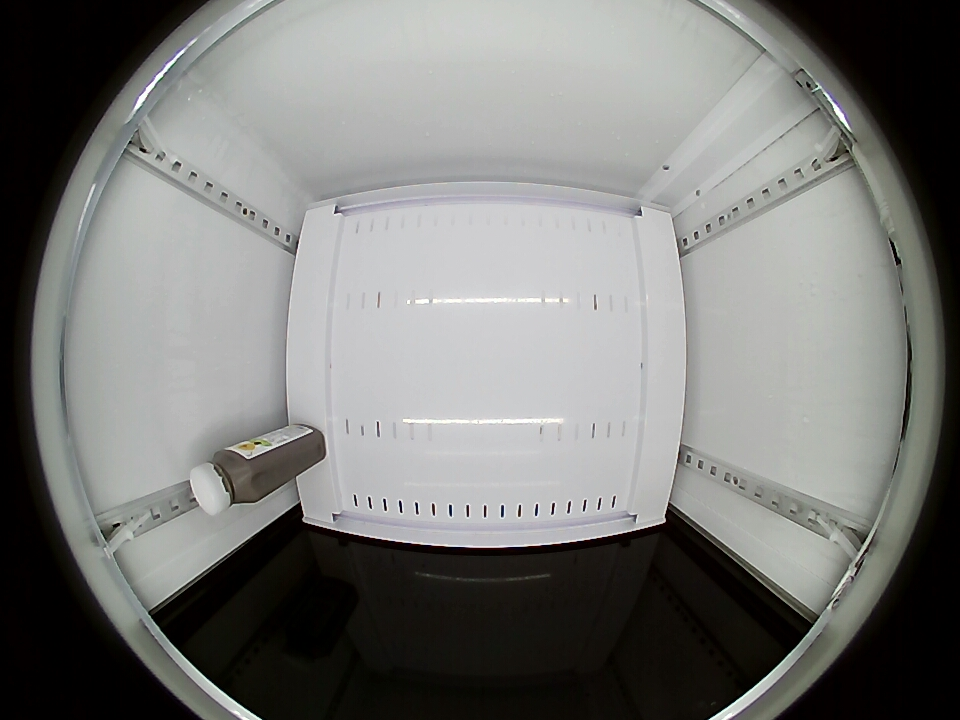youyanggudong: (189, 446, 261, 515)
